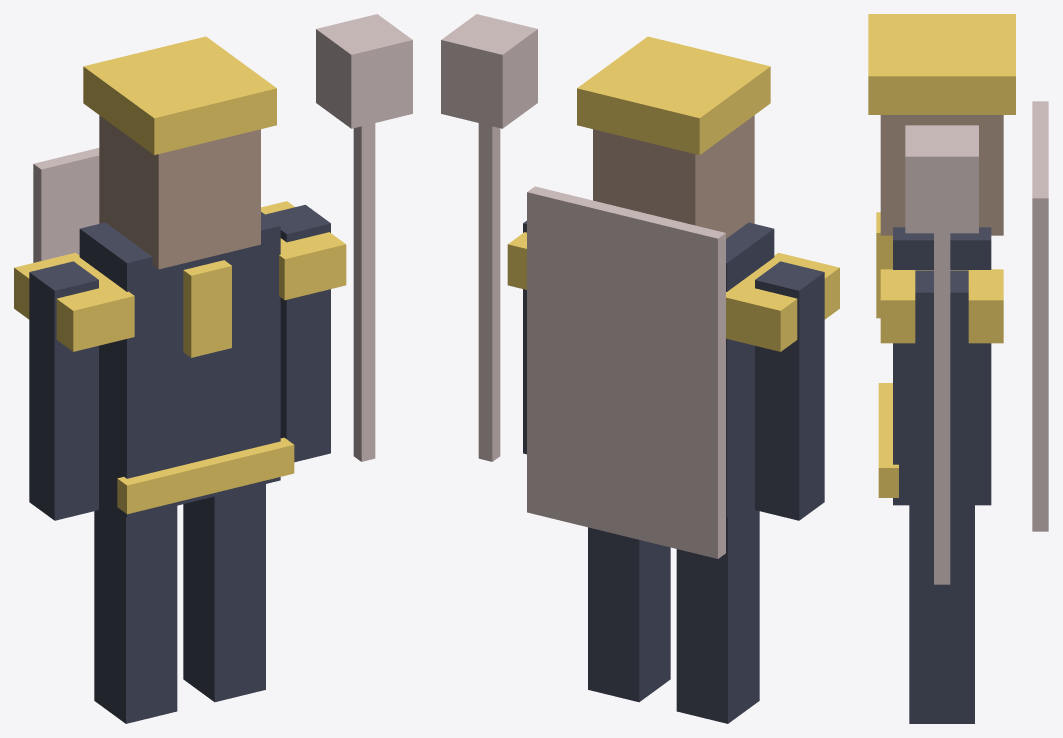
The model's file is 08_vela_ironwake_broker_under_prize.glb.
3 views of the same model, side by side, from view 1: azimuth 30°, elevation 25°; view 2: azimuth 150°, elevation 25°; view 3: azimuth 270°, elevation 25° (orthographic). The views are drawn at different scales.
Visible parts, largest first — view 1: Vela Ironwake, Broker under Prize; view 2: Vela Ironwake, Broker under Prize; view 3: Vela Ironwake, Broker under Prize.
Part boxes in pixels (x1,y1,x2,y2): Vela Ironwake, Broker under Prize: (14,14,412,723); Vela Ironwake, Broker under Prize: (441,14,839,723); Vela Ironwake, Broker under Prize: (868,14,1048,723).
Bounding box in the file's own units: 1.01 × 1.68 × 0.4281.
